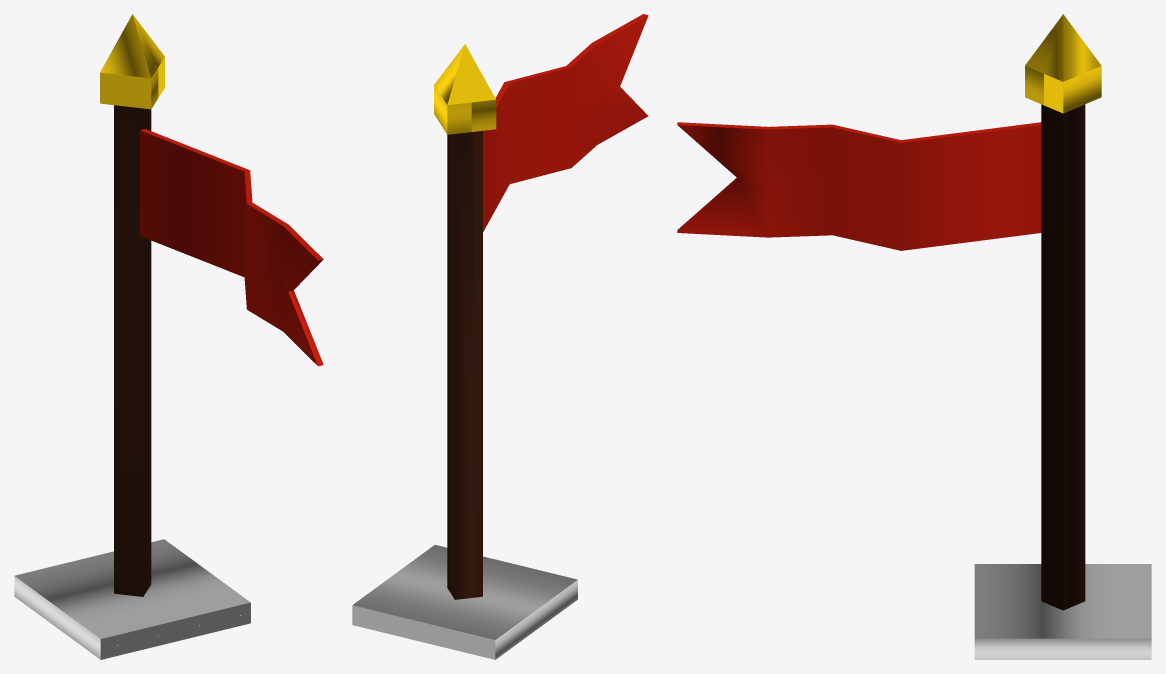
File: flag3.fbx
The picture shows the model from 3 angles, left to right: view 1: azimuth 30°, elevation 25°; view 2: azimuth 150°, elevation 25°; view 3: azimuth 270°, elevation 25°; orthographic projection. The views are drawn at different scales.
Visible parts, largest first — view 1: flag, 立方体; view 2: flag, 立方体; view 3: flag, 立方体.
Part boxes in pixels (x1,y1,x2,y2): flag: (14,14,250,659); 立方体: (140,129,323,366); flag: (352,44,577,659); 立方体: (483,14,648,231); flag: (974,14,1151,659); 立方体: (677,122,1041,250).
Size of the model in its own units: 26.73 by 101 by 71.7.
